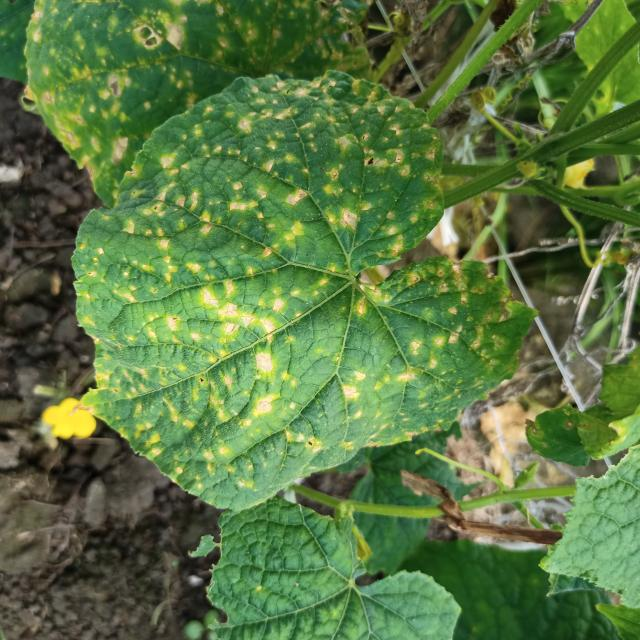disease_cucumber: (75, 70, 509, 498), (19, 0, 382, 165)
